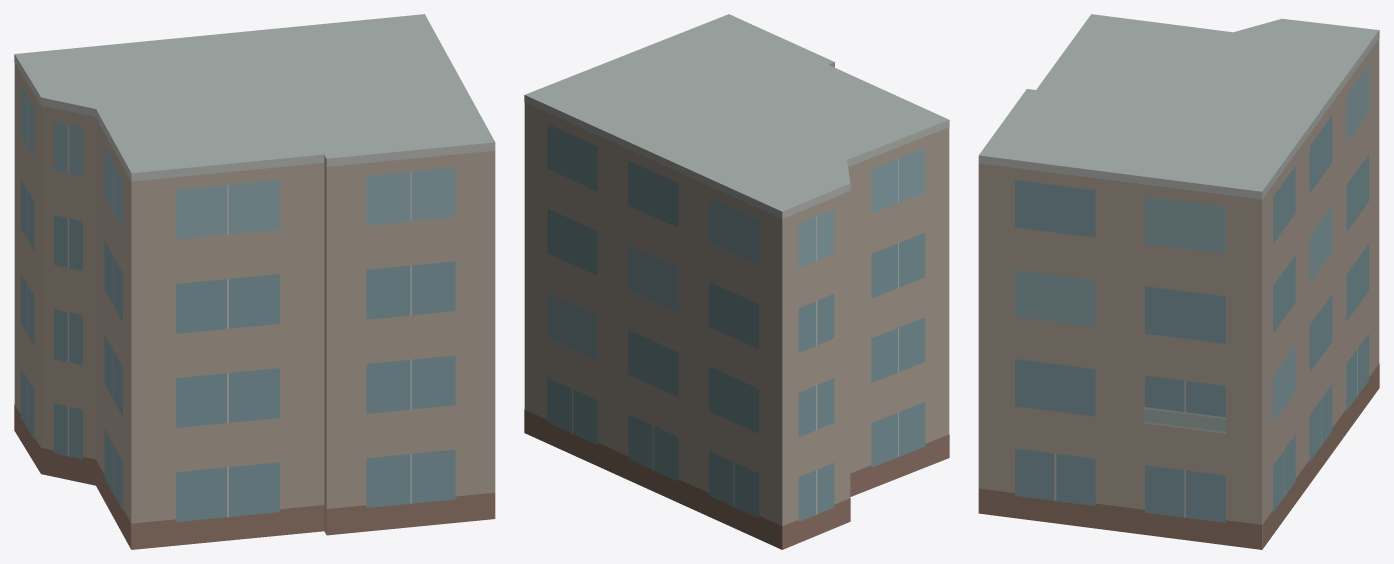
Rendered from survey-upis-32753878.glb.
3 views of the same model, side by side, from view 1: azimuth 30°, elevation 25°; view 2: azimuth 150°, elevation 25°; view 3: azimuth 270°, elevation 25° (orthographic). The views are drawn at different scales.
Parts seen in each view (by area): view 1: survey-upis-32753878.tmp; view 2: survey-upis-32753878.tmp; view 3: survey-upis-32753878.tmp.
Boxes of the visible parts, x1=… form: survey-upis-32753878.tmp: x1=14, y1=14, x2=495, y2=549; survey-upis-32753878.tmp: x1=524, y1=14, x2=949, y2=549; survey-upis-32753878.tmp: x1=978, y1=14, x2=1379, y2=549.
Size of the model in its own units: 11.94 by 11.2 by 11.37.
